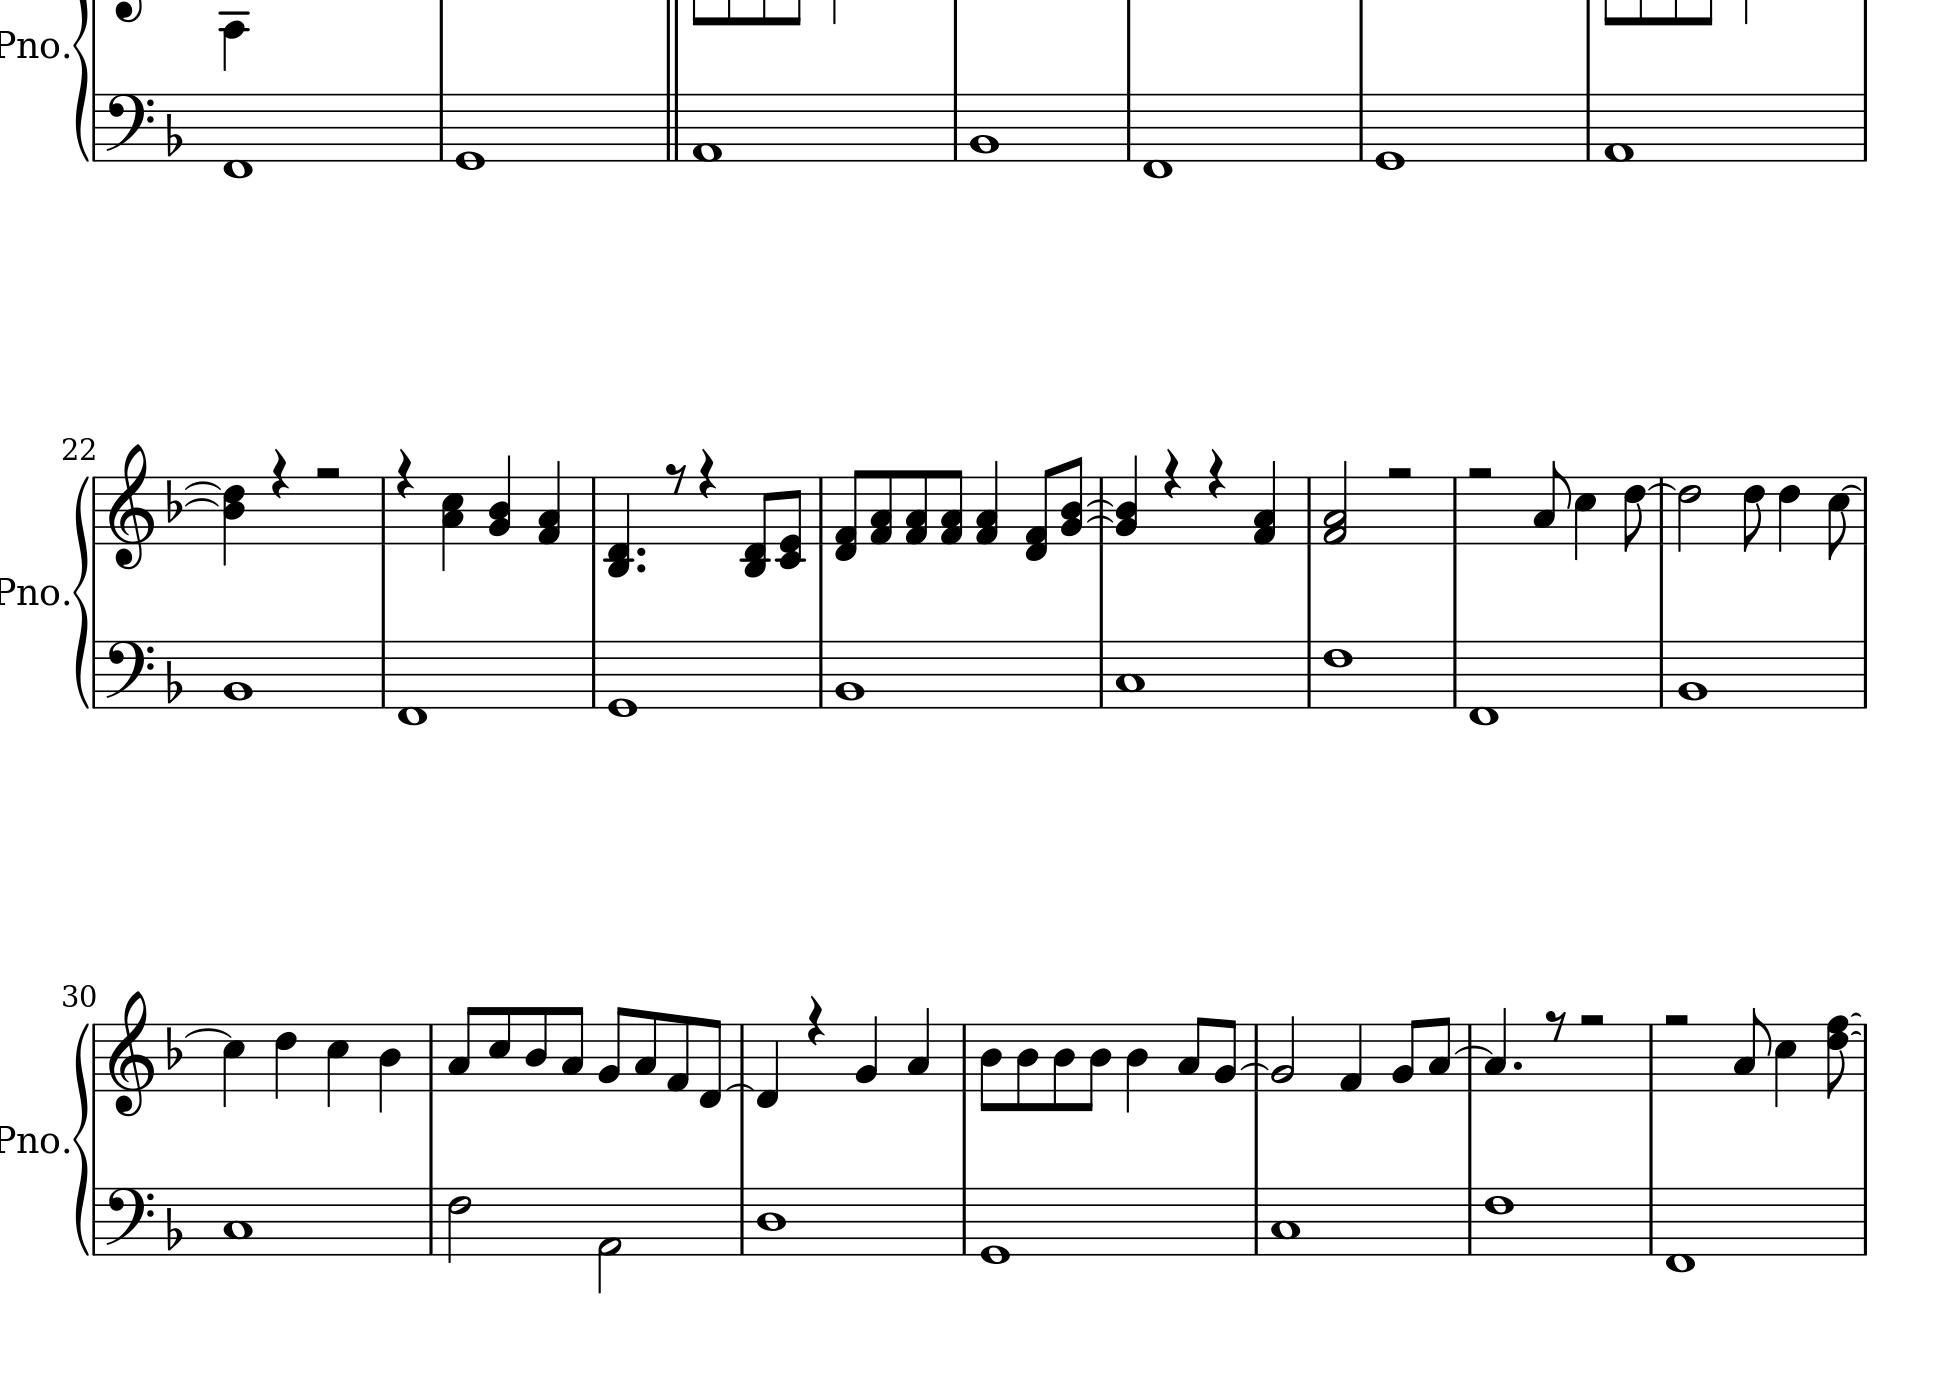0: (79, 979, 96, 1006)
1_-1: (1143, 91, 1176, 181), (1468, 637, 1501, 727), (1665, 1185, 1698, 1273), (222, 90, 253, 181), (397, 637, 429, 729)
1_0: (1374, 88, 1407, 172), (454, 90, 487, 172), (607, 637, 639, 720), (981, 1183, 1011, 1266)
1_1: (691, 90, 724, 165), (1603, 91, 1635, 166)
1_2: (967, 91, 1002, 163), (1677, 637, 1710, 709), (222, 637, 253, 711), (834, 637, 865, 709)
1_3: (223, 1185, 253, 1255), (1116, 637, 1144, 709), (1270, 1186, 1299, 1255)
1_4: (754, 1185, 787, 1255)
1_6: (1483, 1186, 1516, 1258), (1323, 639, 1354, 709)
2: (78, 435, 96, 460), (60, 436, 78, 460)
2_1: (597, 1183, 622, 1294)
2_1_3: (1323, 460, 1350, 547)
2_2: (1269, 1012, 1297, 1092)
2_6: (445, 1185, 472, 1264), (1677, 474, 1702, 552)
3: (61, 982, 78, 1006)
4_-1: (754, 1021, 781, 1110)
4_-3_-1: (601, 475, 636, 580)
4_1: (1338, 1021, 1365, 1093)
4_1_3: (973, 460, 1002, 546), (535, 460, 562, 547), (1251, 460, 1278, 547)
4_2: (853, 1012, 880, 1092)
4_2_4: (1114, 454, 1140, 547), (487, 457, 511, 547)
4_3: (1483, 1006, 1509, 1093), (906, 1006, 931, 1092)
4_3_5: (439, 474, 466, 573)
4_4: (376, 1021, 402, 1114), (1125, 1021, 1149, 1114)
4_4_6: (222, 474, 244, 568)
4_5: (324, 1021, 349, 1110), (220, 1021, 246, 1108), (1773, 1020, 1797, 1110), (1573, 472, 1597, 561)
4_6: (271, 1021, 298, 1101), (1777, 474, 1801, 553)
8_-1: (697, 1015, 724, 1108)
8_-1_1: (832, 469, 867, 562), (1023, 466, 1056, 562)
8_-2_0: (774, 475, 810, 571)
8_-3_-1: (738, 475, 774, 577)
8_1: (664, 1012, 691, 1093)
8_1_3: (867, 469, 894, 546), (904, 469, 930, 544), (939, 469, 964, 544)
8_2: (595, 1003, 628, 1093), (1389, 1017, 1420, 1092), (1213, 1017, 1239, 1092)
8_2_4: (1060, 454, 1086, 544)
8_3: (1732, 1006, 1770, 1093), (1533, 459, 1570, 544), (447, 1003, 478, 1092), (1176, 1014, 1207, 1092), (559, 1003, 585, 1093), (633, 1009, 658, 1092), (1428, 1015, 1452, 1092)
8_4: (1083, 1021, 1113, 1113), (1015, 1021, 1041, 1113), (1051, 1021, 1077, 1113), (523, 1003, 549, 1092), (979, 1021, 1003, 1113)
8_5: (487, 1003, 513, 1092), (1827, 474, 1851, 561)
8_6: (1621, 474, 1648, 553), (1740, 474, 1767, 553)
Brace: (70, 1018, 91, 1258), (70, 472, 91, 709)
Double_barline: (658, 91, 685, 160)
Fclef: (103, 1185, 154, 1258), (103, 91, 154, 163), (103, 639, 154, 711)
Flat: (163, 475, 184, 525), (163, 109, 184, 157), (163, 657, 184, 705), (163, 1023, 184, 1071), (163, 1204, 184, 1251)
Gclef: (106, 988, 157, 1117), (106, 442, 156, 571)
Pno: (1, 1120, 61, 1158), (1, 27, 60, 63), (1, 574, 60, 610)
Rests2: (1464, 460, 1498, 483), (1662, 1009, 1695, 1030), (1383, 462, 1416, 481), (312, 462, 343, 481), (1578, 1009, 1608, 1029)
Rests4: (696, 445, 718, 501), (268, 447, 291, 501), (1161, 448, 1183, 502), (1206, 448, 1228, 502), (805, 993, 826, 1048), (394, 445, 415, 499)
Rests8: (664, 460, 688, 495), (1545, 1009, 1567, 1042)
Single_barline: (1854, 1186, 1873, 1255), (373, 477, 393, 543), (1299, 640, 1318, 706), (1446, 640, 1465, 706), (1642, 1023, 1662, 1089), (585, 475, 603, 544), (1300, 475, 1318, 544), (1446, 475, 1464, 543), (421, 1186, 439, 1254), (955, 1186, 973, 1254), (1642, 1186, 1660, 1254), (1579, 93, 1597, 159), (432, 94, 450, 160), (1120, 94, 1138, 160), (1353, 94, 1371, 160), (811, 477, 829, 543), (373, 640, 391, 706), (1653, 640, 1671, 706), (1092, 640, 1110, 706), (1855, 640, 1873, 706), (1461, 1186, 1479, 1252), (946, 94, 964, 159), (423, 1023, 439, 1090), (1857, 94, 1873, 160), (585, 640, 601, 706), (813, 640, 829, 706), (955, 1024, 972, 1090), (733, 1186, 750, 1252), (1248, 1186, 1264, 1252), (1858, 477, 1873, 544), (1857, 1024, 1872, 1092), (88, 93, 102, 160), (88, 477, 102, 544), (88, 1023, 102, 1090), (88, 1186, 102, 1254), (88, 640, 102, 706)
Slur: (183, 1026, 232, 1039), (1453, 1042, 1494, 1056), (183, 493, 220, 507), (183, 480, 220, 492), (1647, 480, 1677, 492), (1086, 498, 1116, 508), (1086, 513, 1116, 523), (1239, 1060, 1269, 1071), (724, 1081, 754, 1090), (1840, 481, 1863, 492), (1849, 1029, 1864, 1038)
dot: (634, 559, 649, 573), (634, 544, 648, 558), (1510, 1057, 1524, 1071)
